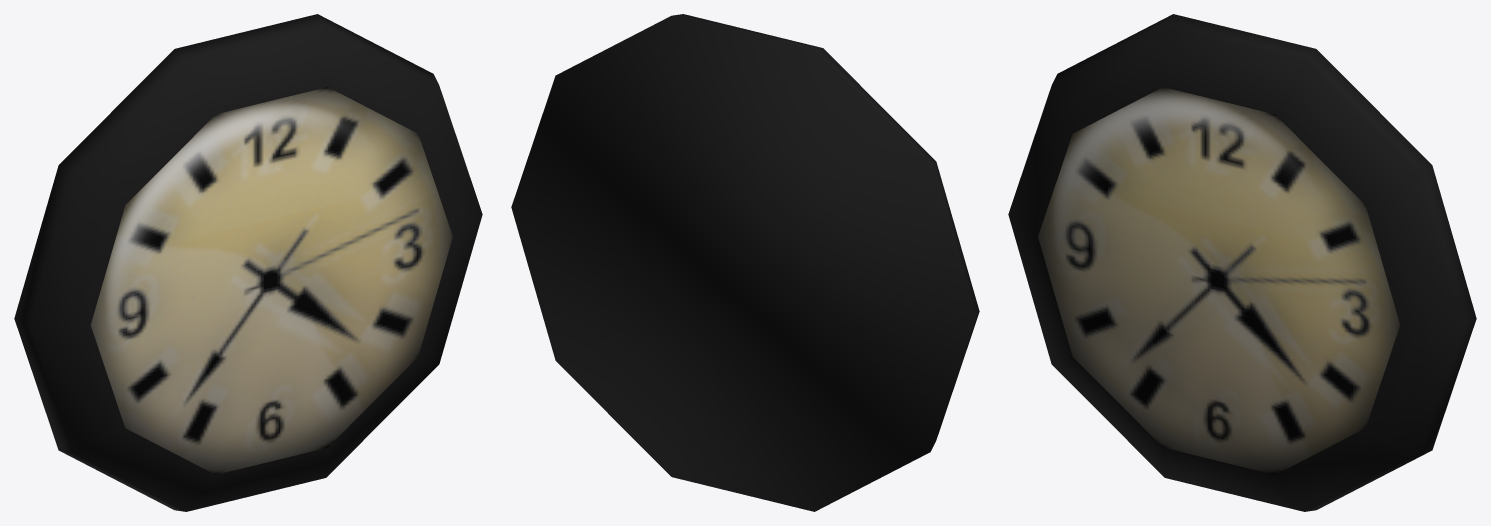
File: Wall_Clock_A.FBX
3 renders of one model, left to right at view 1: azimuth 30°, elevation 25°; view 2: azimuth 150°, elevation 25°; view 3: azimuth 330°, elevation 25°, orthographic.
Visible parts, largest first — view 1: Wall_Clock; view 2: Wall_Clock; view 3: Wall_Clock.
Boxes of the visible parts, x1=… form: Wall_Clock: x1=14, y1=14, x2=482, y2=511; Wall_Clock: x1=511, y1=14, x2=979, y2=511; Wall_Clock: x1=1008, y1=14, x2=1476, y2=511.
Size of the model in its own units: 130 by 124 by 12.52.
